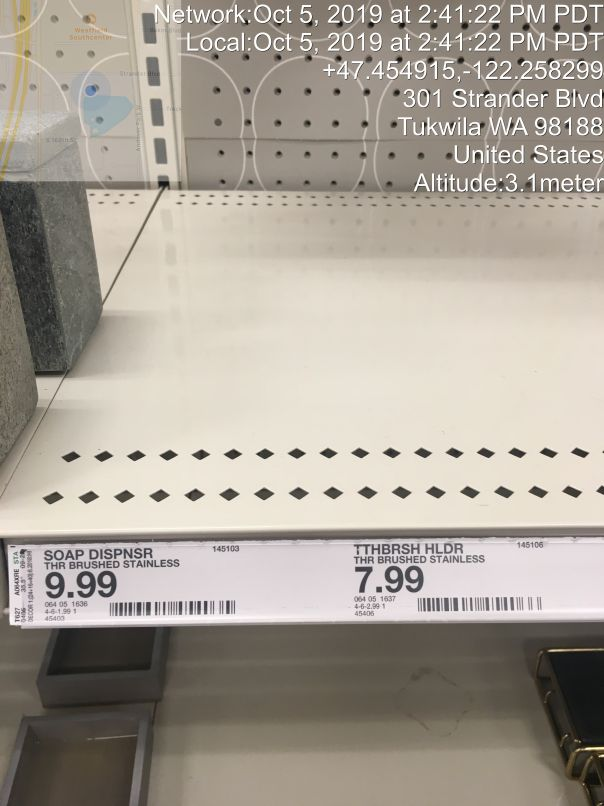Label: (8, 536, 265, 638), (344, 530, 571, 630)
Location: (392, 79, 604, 170)
Time: (146, 3, 604, 55)
Void: (85, 67, 573, 482)
